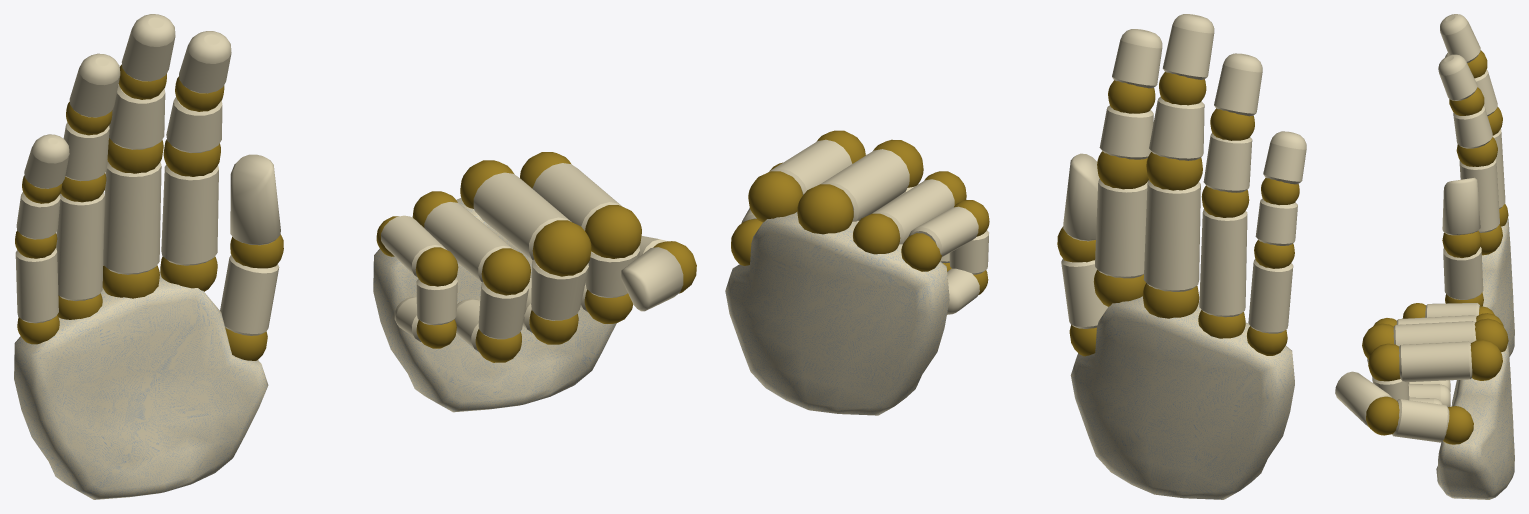
The model's file is hands model.dae.
3 views of the same model, side by side, from view 1: azimuth 30°, elevation 25°; view 2: azimuth 150°, elevation 25°; view 3: azimuth 270°, elevation 25° (orthographic). The views are drawn at different scales.
Visible parts, largest first — view 1: PALM (×2), MIDL_PROX (×2), INDX_PROX (×2), RING_PROX (×2), THMB_DSTL (×2), MIDL_INTR (×2), PNKY_PROX (×2), RING_INTR (×2), MIDL_K2 (×2), INDX_INTR (×2), INDX_K2 (×2), RING_DSTL (×2) (+17 smaller); view 2: PALM (×2), MIDL_PROX (×2), RING_PROX (×2), INDX_PROX (×2), PNKY_PROX (×2), MIDL_K3 (×2), INDX_K3 (×2), PNKY_DSTL (×2), MIDL_INTR, PNKY_INTR (×2), MIDL_DSTL, MIDL_K2 (×2) (+17 smaller); view 3: PALM (×2), INDX_PROX (×2), THMB_PROX (×2), THMB_DSTL (×2), MIDL_PROX (×2), MIDL_DSTL (×2), THMB_K1 (×2), INDX_K2 (×2), INDX_INTR (×2), INDX_K3 (×2), INDX_DSTL, THMB_K2 (×2) (+8 smaller).
Part boxes in pixels (x1,y1,x2,y2): PALM (×2): [14, 198, 616, 499]; MIDL_PROX (×2): [103, 161, 571, 274]; INDX_PROX (×2): [161, 163, 622, 265]; RING_PROX (×2): [56, 192, 513, 300]; THMB_DSTL (×2): [230, 154, 683, 311]; MIDL_INTR (×2): [109, 85, 588, 320]; PNKY_PROX (×2): [15, 215, 446, 323]; RING_INTR (×2): [63, 122, 528, 339]; MIDL_K2 (×2): [107, 138, 591, 276]; INDX_INTR (×2): [166, 97, 640, 297]; INDX_K2 (×2): [163, 139, 641, 258]; RING_DSTL (×2): [69, 53, 479, 351]; PALM (×2): [725, 212, 1294, 499]; MIDL_PROX (×2): [820, 149, 1200, 291]; RING_PROX (×2): [872, 179, 1247, 317]; INDX_PROX (×2): [768, 139, 1147, 278]; PNKY_PROX (×2): [908, 206, 1293, 333]; MIDL_K3 (×2): [797, 184, 1199, 318]; INDX_K3 (×2): [748, 171, 1145, 306]; PNKY_DSTL (×2): [947, 131, 1306, 314]; MIDL_INTR: [1149, 97, 1204, 160]; PNKY_INTR (×2): [949, 198, 1297, 274]; MIDL_DSTL: [1162, 14, 1214, 79]; MIDL_K2 (×2): [873, 139, 1202, 190]; PALM (×2): [1436, 218, 1514, 499]; INDX_PROX (×2): [1399, 159, 1499, 382]; THMB_PROX (×2): [1392, 247, 1483, 442]; THMB_DSTL (×2): [1335, 177, 1480, 426]; MIDL_PROX (×2): [1393, 129, 1505, 346]; MIDL_DSTL (×2): [1408, 14, 1480, 406]; THMB_K1 (×2): [1366, 230, 1481, 435]; INDX_K2 (×2): [1368, 137, 1497, 381]; INDX_INTR (×2): [1372, 106, 1492, 400]; INDX_K3 (×2): [1470, 224, 1502, 380]; INDX_DSTL: [1438, 54, 1477, 100]; THMB_K2 (×2): [1443, 292, 1483, 444].
Size of the model in its own units: 10.21 by 3.63 by 7.57.
